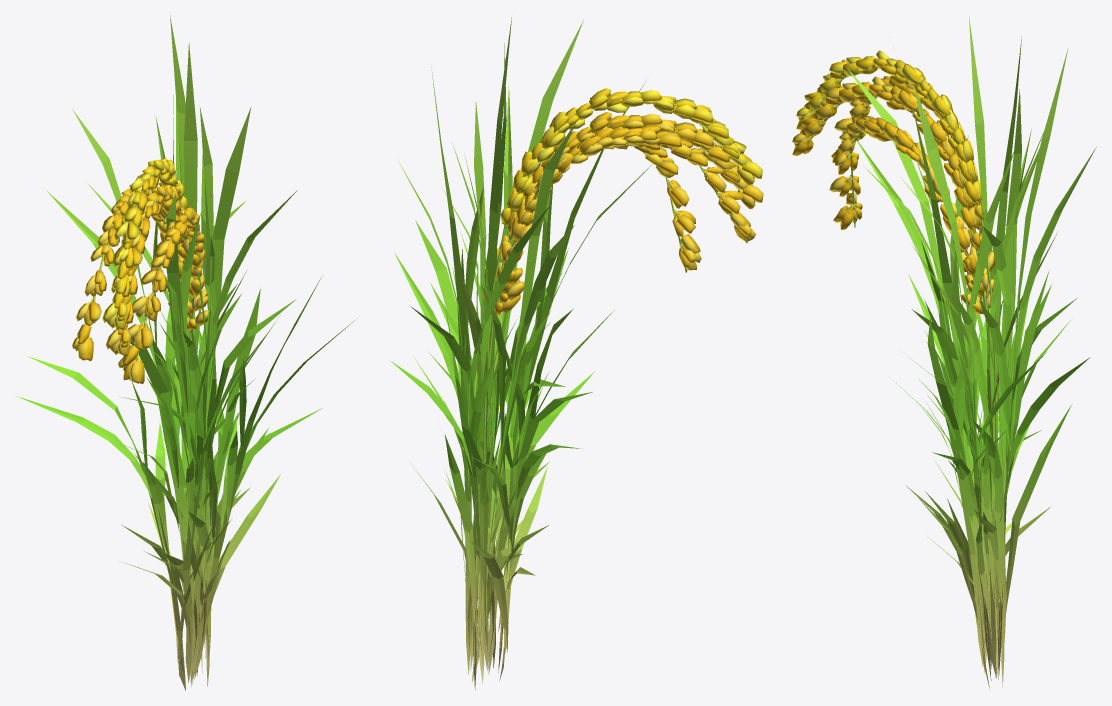
The model's file is Rice10_LOD.fbx.
The picture shows the model from 3 angles, left to right: view 1: azimuth 30°, elevation 25°; view 2: azimuth 150°, elevation 25°; view 3: azimuth 270°, elevation 25°; orthographic projection.
Visible parts, largest first — view 1: Rice10_LOD0; view 2: Rice10_LOD0; view 3: Rice10_LOD0.
Boxes of the visible parts, x1,y1,x2,y2 form: Rice10_LOD0: (16,15,357,690); Rice10_LOD0: (389,17,763,690); Rice10_LOD0: (792,17,1096,689).
Size of what is drawn, in the model's own units: 336 by 665 by 277.
1 material, 1 textured.
